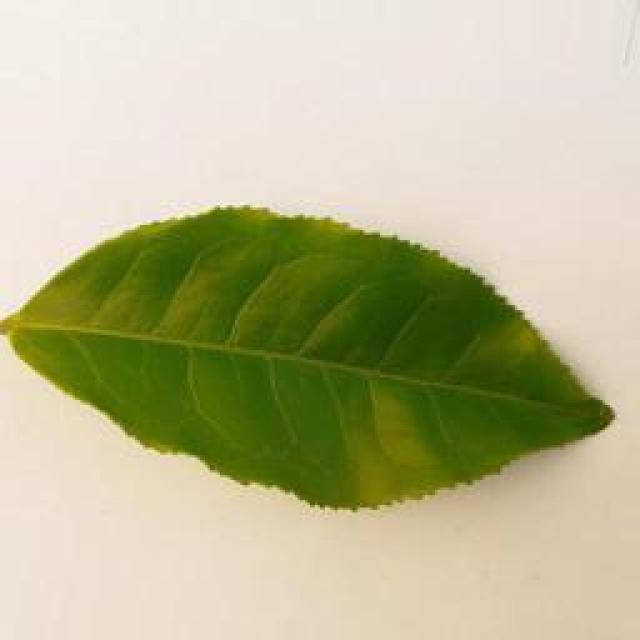Healthy: (0, 195, 617, 510)
